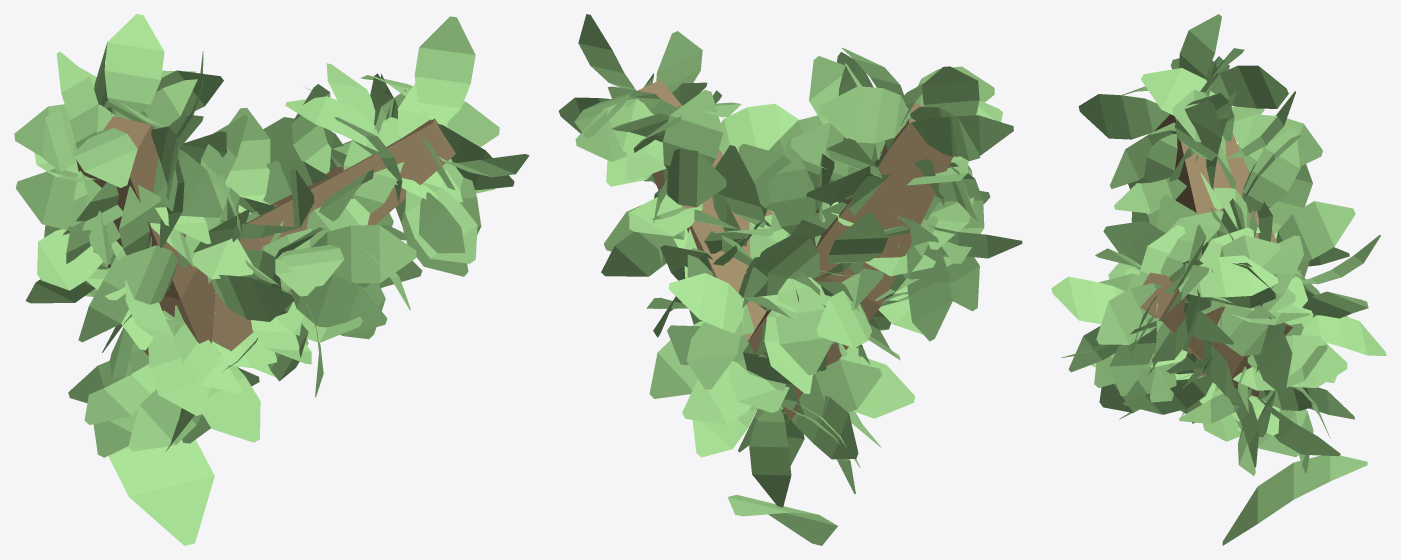
The model's file is bridge01.fbx.
3 renders of one model, left to right at view 1: azimuth 30°, elevation 25°; view 2: azimuth 150°, elevation 25°; view 3: azimuth 270°, elevation 25°, orthographic. The views are drawn at different scales.
Visible parts, largest first — view 1: Tree10, leaf, Tree10|leaf|Dupli|149, Tree10|leaf|Dupli|113, Tree10|leaf|Dupli|188, Tree10|leaf|Dupli|186, Tree10|leaf|Dupli|43, Tree10|leaf|Dupli|21, Tree10|leaf|Dupli|93, Tree10|leaf|Dupli|196, Tree10|leaf|Dupli|45, Tree10|leaf|Dupli|11 (+55 smaller); view 2: Tree10, Tree10|leaf|Dupli|36, Tree10|leaf|Dupli|122, Tree10|leaf|Dupli|127, Tree10|leaf|Dupli|42, Tree10|leaf|Dupli|32, Tree10|leaf|Dupli|17, Tree10|leaf|Dupli|41, Tree10|leaf|Dupli|160, Tree10|leaf|Dupli|144, Tree10|leaf|Dupli|35, Tree10|leaf|Dupli|12 (+57 smaller); view 3: Tree10, leaf, Tree10|leaf|Dupli|72, Tree10|leaf|Dupli|76, Tree10|leaf|Dupli|133, Tree10|leaf|Dupli|15, Tree10|leaf|Dupli|36, Tree10|leaf|Dupli|184, Tree10|leaf|Dupli|56, Tree10|leaf|Dupli|91, Tree10|leaf|Dupli|154, Tree10|leaf|Dupli|95 (+54 smaller).
Boxes of the visible parts, x1,y1,x2,y2 form: Tree10: (76,116,455,355); leaf: (108,439,214,545); Tree10|leaf|Dupli|149: (414,16,475,125); Tree10|leaf|Dupli|113: (104,14,164,120); Tree10|leaf|Dupli|188: (311,225,416,283); Tree10|leaf|Dupli|186: (290,274,387,335); Tree10|leaf|Dupli|43: (15,168,122,230); Tree10|leaf|Dupli|21: (401,192,468,276); Tree10|leaf|Dupli|93: (148,310,210,415); Tree10|leaf|Dupli|196: (225,108,270,214); Tree10|leaf|Dupli|45: (203,352,260,442); Tree10|leaf|Dupli|11: (73,128,137,187); Tree10: (637,80,952,419); Tree10|leaf|Dupli|36: (819,86,910,143); Tree10|leaf|Dupli|122: (775,277,832,375); Tree10|leaf|Dupli|127: (668,273,754,335); Tree10|leaf|Dupli|42: (749,406,791,507); Tree10|leaf|Dupli|32: (797,359,881,417); Tree10|leaf|Dupli|17: (662,90,723,169); Tree10|leaf|Dupli|41: (768,139,815,234); Tree10|leaf|Dupli|160: (719,103,799,153); Tree10|leaf|Dupli|144: (663,148,726,207); Tree10|leaf|Dupli|35: (601,206,685,276); Tree10|leaf|Dupli|12: (906,115,1013,156); Tree10: (1140,114,1292,397); leaf: (1222,455,1367,545); Tree10|leaf|Dupli|72: (1078,94,1169,139); Tree10|leaf|Dupli|76: (1276,201,1355,263); Tree10|leaf|Dupli|133: (1242,127,1300,212); Tree10|leaf|Dupli|15: (1178,255,1278,297); Tree10|leaf|Dupli|36: (1210,65,1288,108); Tree10|leaf|Dupli|184: (1096,283,1163,344); Tree10|leaf|Dupli|56: (1051,276,1124,323); Tree10|leaf|Dupli|91: (1247,335,1347,387); Tree10|leaf|Dupli|154: (1301,315,1386,355); Tree10|leaf|Dupli|95: (1232,114,1322,166).
Size of the model in its own units: 234 by 253 by 161.
